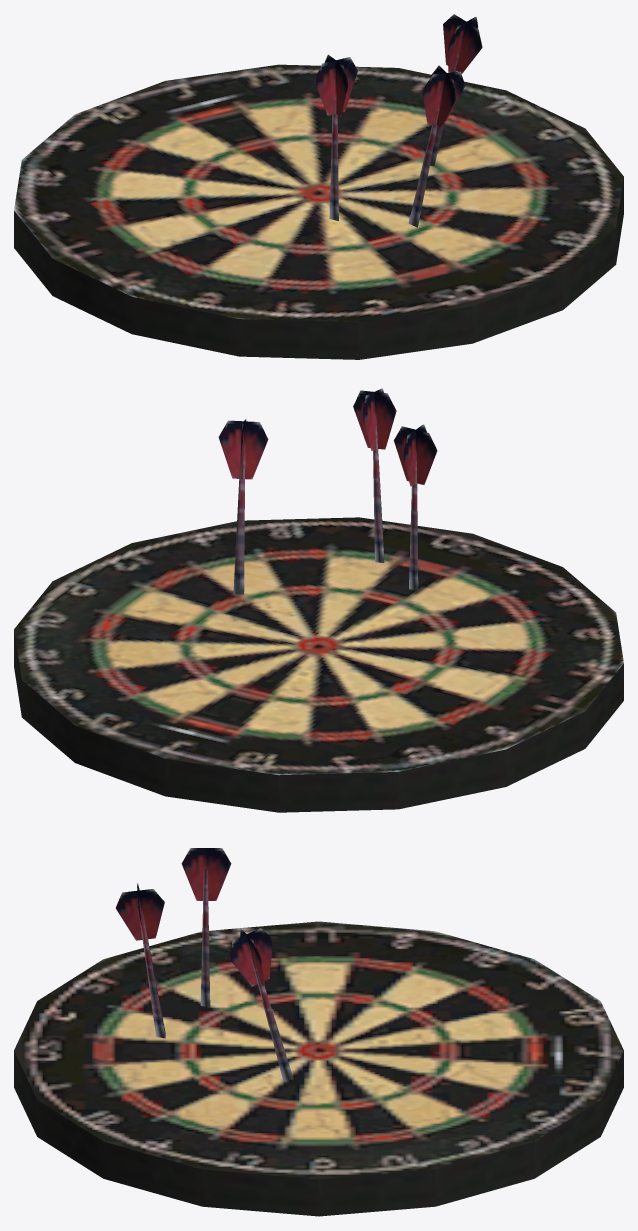
The model's file is dartboard.fbx.
The picture shows the model from 3 angles, top to bottom: view 1: azimuth 30°, elevation 25°; view 2: azimuth 150°, elevation 25°; view 3: azimuth 270°, elevation 25°; orthographic projection.
Parts seen in each view (by area): view 1: mesh_0, mesh_3, mesh_1, mesh_2; view 2: mesh_0, mesh_2, mesh_1, mesh_3; view 3: mesh_0, mesh_3, mesh_2, mesh_1.
Boxes of the visible parts, box(x1,y1,x2,y2) form: mesh_0: box(14, 64, 623, 359); mesh_3: box(314, 54, 357, 220); mesh_1: box(408, 65, 465, 227); mesh_2: box(430, 14, 482, 166); mesh_0: box(14, 517, 623, 812); mesh_2: box(218, 419, 268, 594); mesh_1: box(353, 388, 396, 562); mesh_3: box(393, 424, 437, 590); mesh_0: box(14, 921, 623, 1216); mesh_3: box(181, 848, 231, 1007); mesh_2: box(229, 928, 293, 1080); mesh_1: box(115, 883, 165, 1038).
Size of the model in its own units: 59.42 by 23.67 by 59.42.
1 material, 1 textured.
